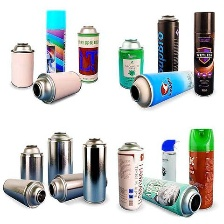aerosol_cans: (132, 170, 203, 219), (125, 69, 200, 110), (187, 7, 218, 101), (185, 123, 216, 212), (113, 138, 147, 212), (41, 7, 68, 83), (154, 11, 181, 85), (29, 68, 83, 105), (73, 20, 101, 85), (115, 36, 148, 91), (8, 41, 35, 91), (158, 136, 181, 189)
bottle: (41, 129, 77, 197), (46, 170, 112, 204), (79, 135, 107, 206), (0, 175, 47, 212), (17, 143, 44, 194)
